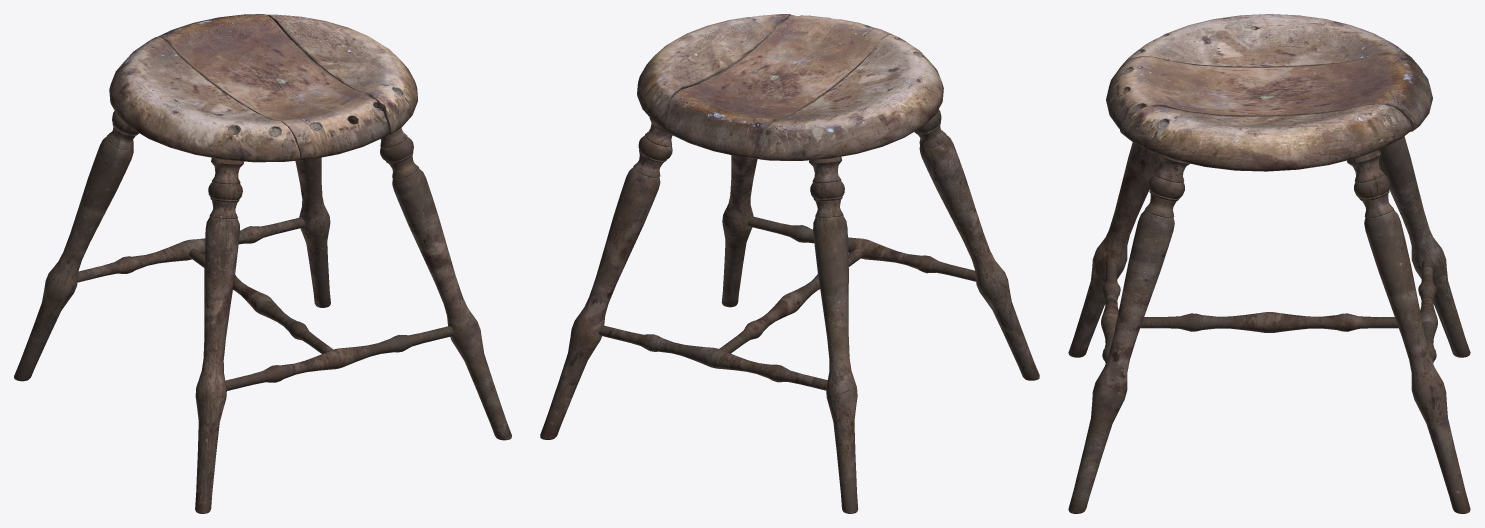
File: stool.glb
The picture shows the model from 3 angles, left to right: view 1: azimuth 30°, elevation 25°; view 2: azimuth 150°, elevation 25°; view 3: azimuth 270°, elevation 25°; orthographic projection. The views are drawn at different scales.
Parts seen in each view (by area): view 1: wooden_stool_01; view 2: wooden_stool_01; view 3: wooden_stool_01.
Boxes of the visible parts, left/top/right/bottom form: wooden_stool_01: left=14, top=14, right=511, bottom=513; wooden_stool_01: left=540, top=14, right=1039, bottom=513; wooden_stool_01: left=1068, top=14, right=1470, bottom=513.
Size of the model in its own units: 0.4254 by 0.4373 by 0.4424.
1 material, 1 textured.
